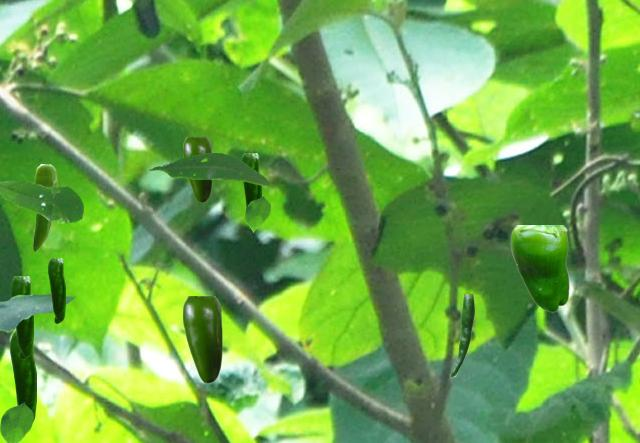green_chili: (510, 225, 568, 311), (183, 296, 221, 382), (10, 331, 35, 422), (33, 164, 56, 250), (450, 294, 473, 376), (183, 137, 211, 201), (11, 276, 32, 358), (241, 153, 260, 226), (48, 258, 64, 322)
